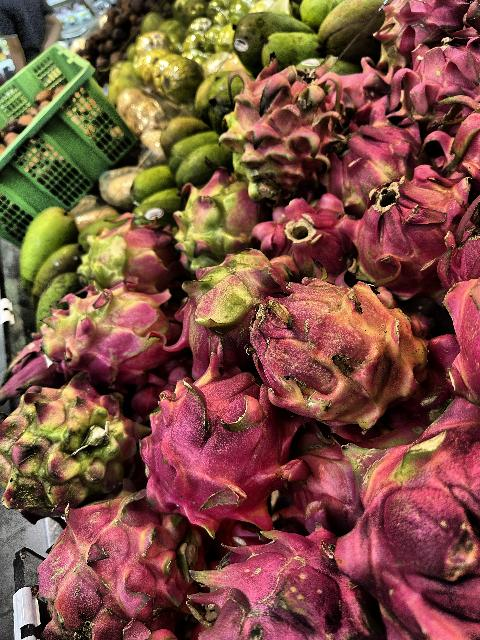buah-naga-belum-matang: (246, 284, 426, 422), (0, 381, 132, 507), (219, 69, 341, 191), (173, 247, 291, 366), (33, 281, 175, 375), (179, 173, 260, 267), (74, 219, 182, 289)
buah-naga-matang: (326, 406, 480, 640), (34, 478, 196, 640), (140, 367, 296, 533), (191, 528, 371, 640), (346, 170, 466, 292), (250, 193, 360, 275), (326, 128, 424, 202), (396, 35, 480, 117), (386, 1, 480, 44), (438, 92, 480, 186), (330, 65, 394, 125)
